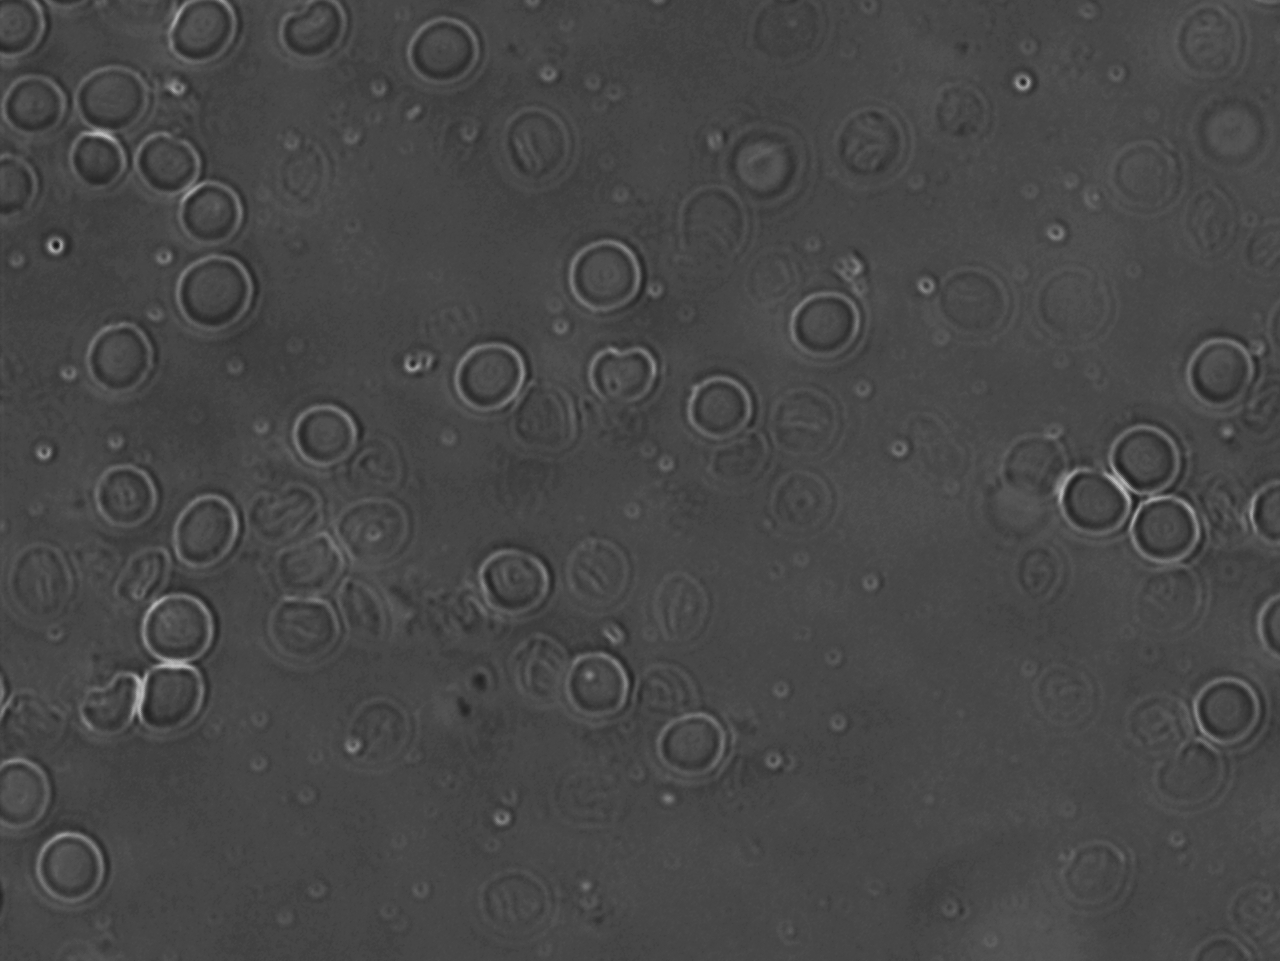depth:0: (161, 241, 263, 348), (26, 823, 130, 919), (1117, 480, 1212, 580), (63, 55, 164, 146), (440, 331, 535, 428), (552, 228, 648, 323), (157, 480, 255, 573), (1181, 321, 1270, 422), (779, 275, 875, 367), (459, 536, 561, 622), (1047, 451, 1143, 542), (395, 6, 491, 95), (163, 176, 260, 261), (647, 701, 742, 786), (1096, 412, 1189, 499), (132, 655, 230, 737), (557, 640, 646, 730), (1187, 666, 1272, 755), (87, 460, 178, 540), (79, 322, 171, 400), (135, 588, 221, 670), (285, 399, 372, 478), (124, 124, 213, 202), (676, 373, 757, 449), (54, 121, 134, 194)
